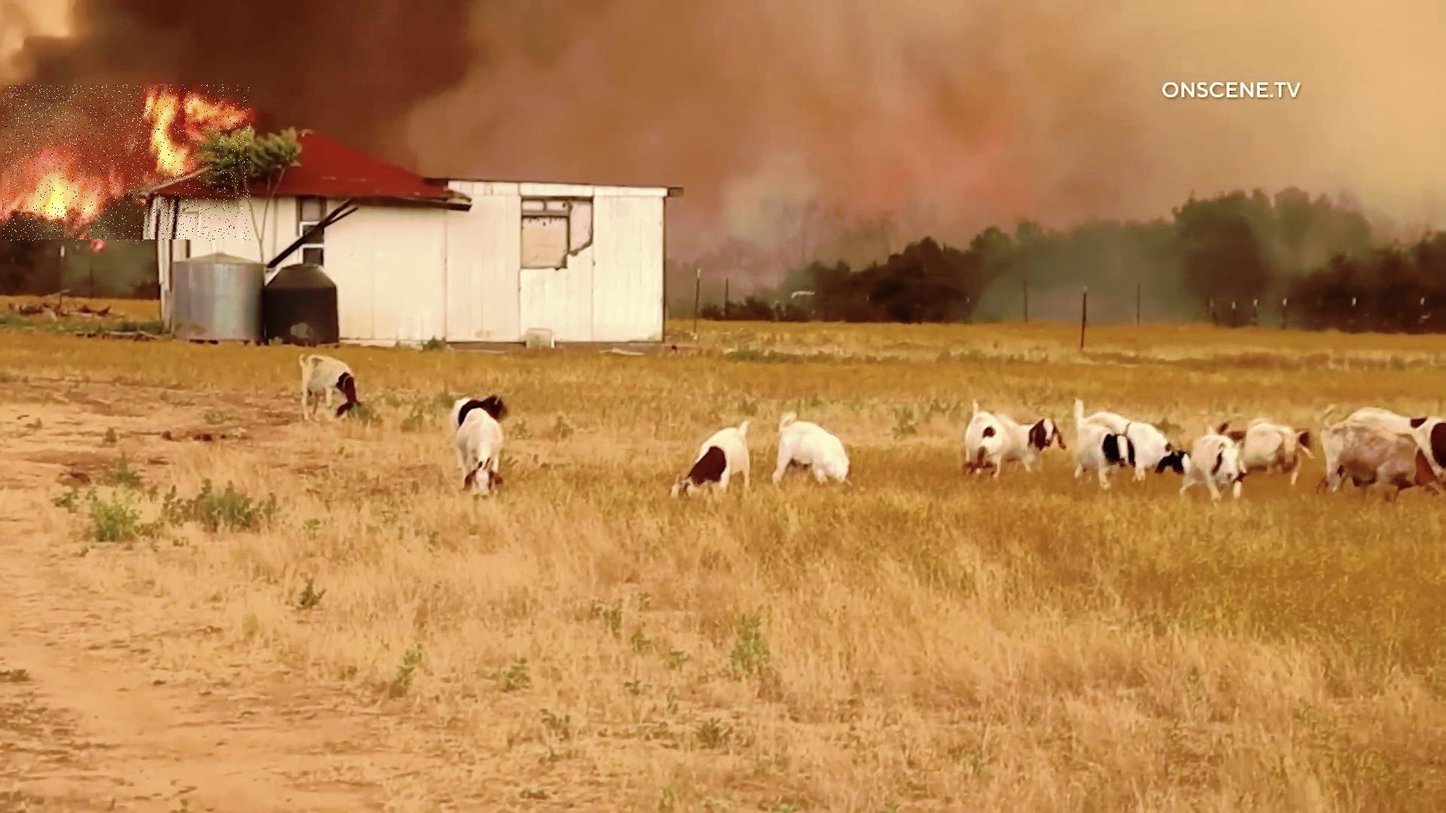fire: (2, 85, 251, 241)
